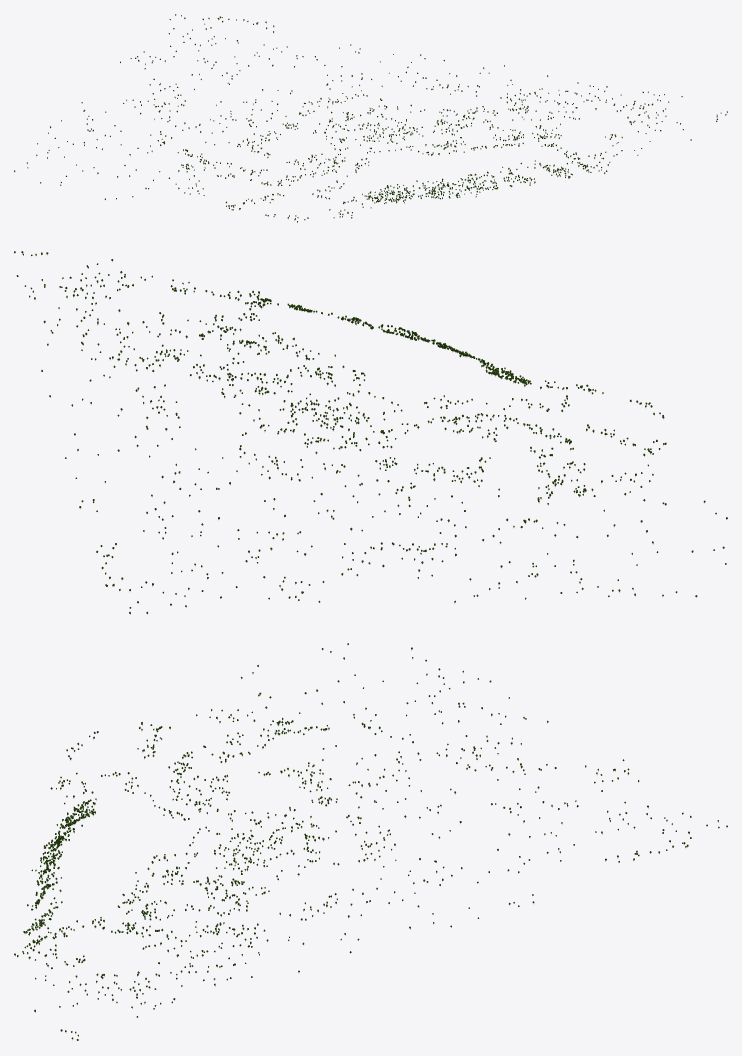
Rendered from ExteriorTrees.fbx.
3 views of the same model, one above another, from view 1: azimuth 30°, elevation 25°; view 2: azimuth 150°, elevation 25°; view 3: azimuth 270°, elevation 25° (orthographic). The views are drawn at different scales.
Bounding box in the file's own units: 287335 × 8056 × 218138.
